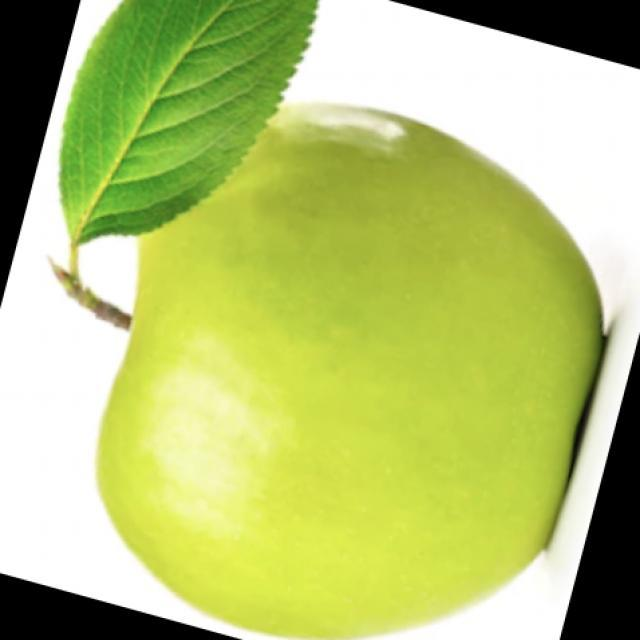Fresh Apple: (110, 118, 583, 640)
